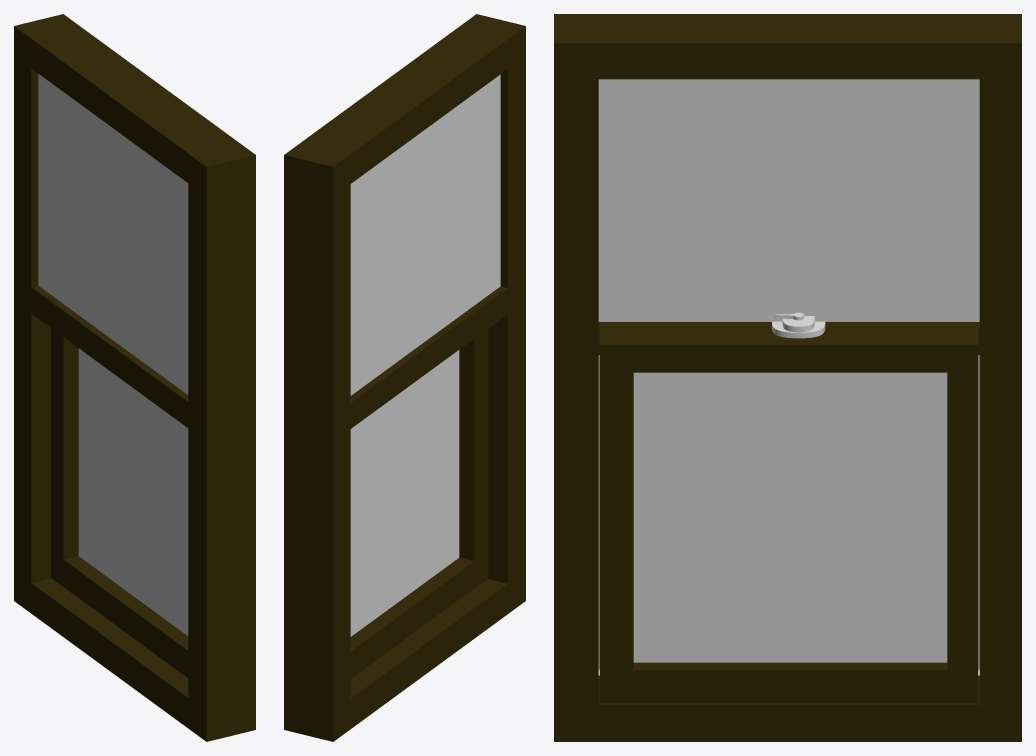
The model's file is window.fbx.
3 views of the same model, side by side, from view 1: azimuth 30°, elevation 25°; view 2: azimuth 150°, elevation 25°; view 3: azimuth 270°, elevation 25° (orthographic). The views are drawn at different scales.
Visible parts, largest first — view 1: WindowFrame, WindowBack, WindowFront1, WindowFrameMoveable; view 2: WindowFrame, WindowBack, WindowFront1, WindowFrameMoveable; view 3: WindowFrame, WindowBack1, WindowFront, WindowFrameMoveable, LockBottom.
Boxes of the visible parts, x1,y1,x2,y2 form: WindowFrame: [14, 14, 255, 741]; WindowBack: [38, 74, 188, 394]; WindowFront1: [78, 348, 188, 635]; WindowFrameMoveable: [51, 328, 188, 677]; WindowFrame: [284, 14, 525, 741]; WindowBack: [350, 74, 500, 395]; WindowFront1: [350, 350, 459, 636]; WindowFrameMoveable: [350, 329, 488, 678]; WindowFrame: [554, 14, 1021, 741]; WindowBack1: [598, 356, 979, 669]; WindowFront: [598, 79, 979, 321]; WindowFrameMoveable: [599, 327, 978, 703]; LockBottom: [772, 315, 825, 338].
Bounding box in the file's own units: 13 × 145 × 88.
